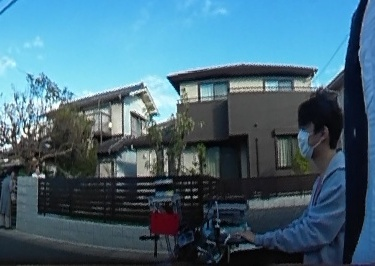person: (273, 92, 348, 266)
